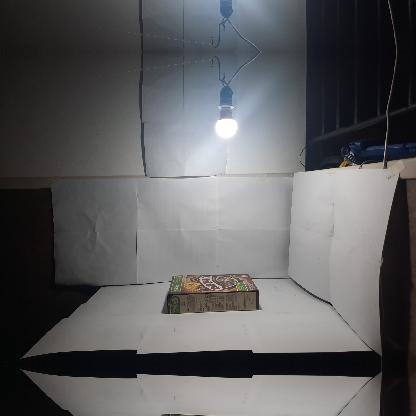Koko-Krunch: (167, 273, 259, 313)
